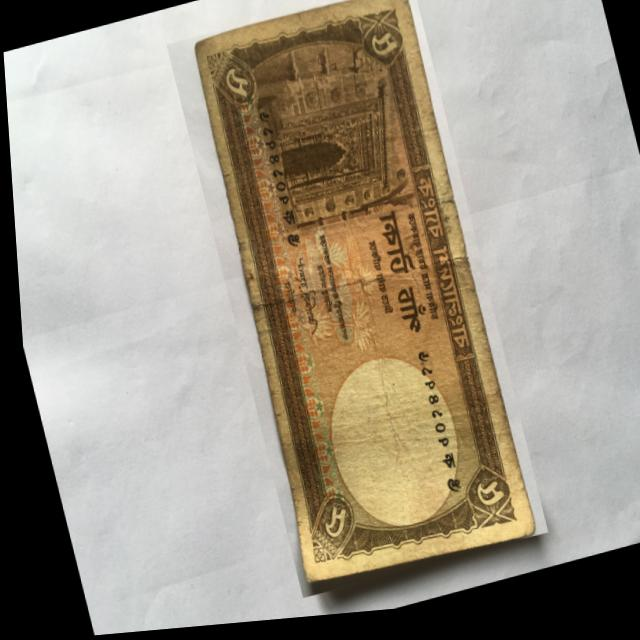Taka: (163, 0, 542, 609)
